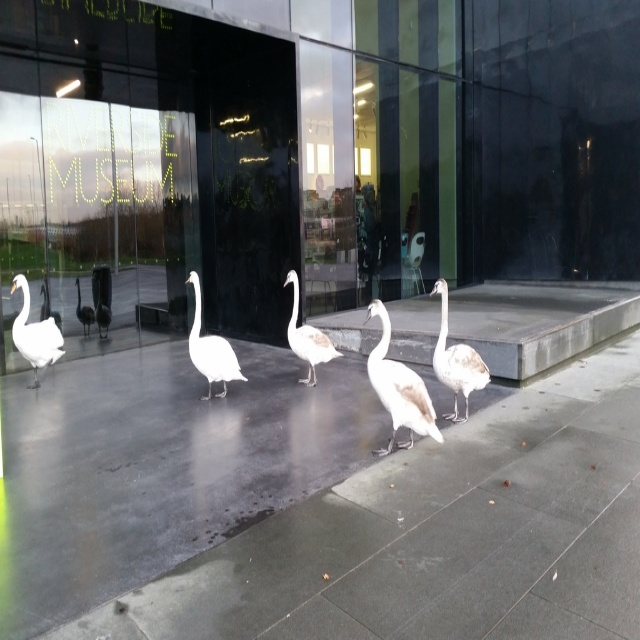Goose: (362, 302, 447, 459), (430, 277, 491, 420), (184, 267, 247, 402), (283, 272, 340, 383), (9, 276, 61, 390)
